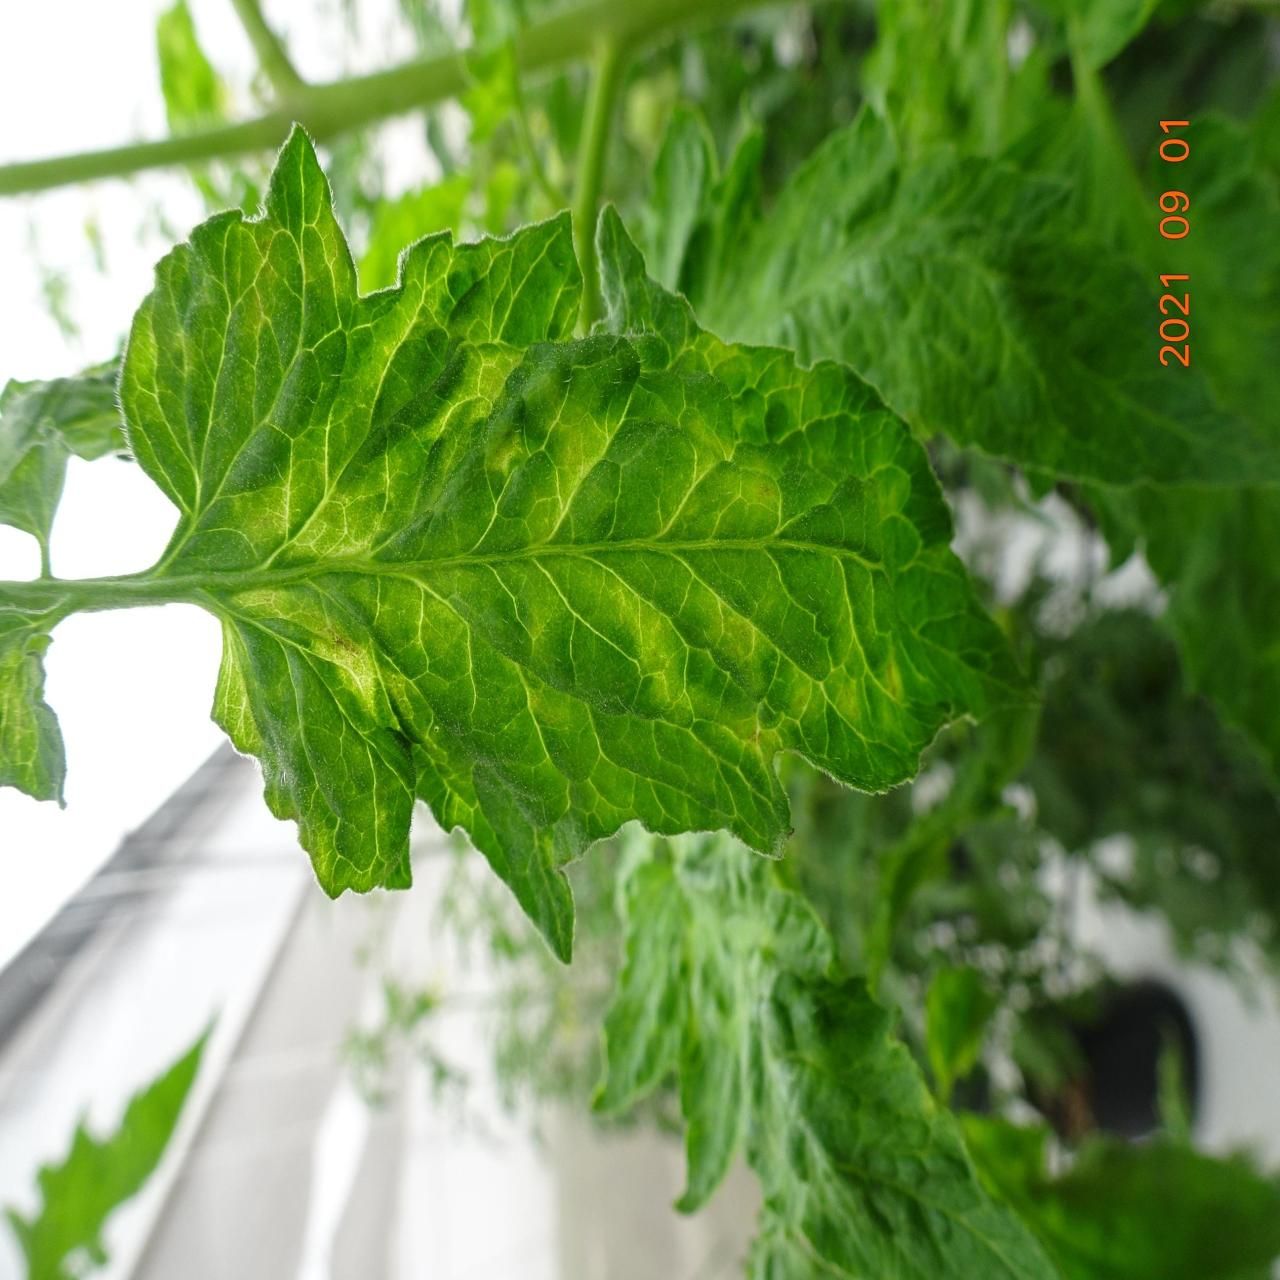T_L_R: (219, 215, 1019, 954), (121, 134, 359, 574)
